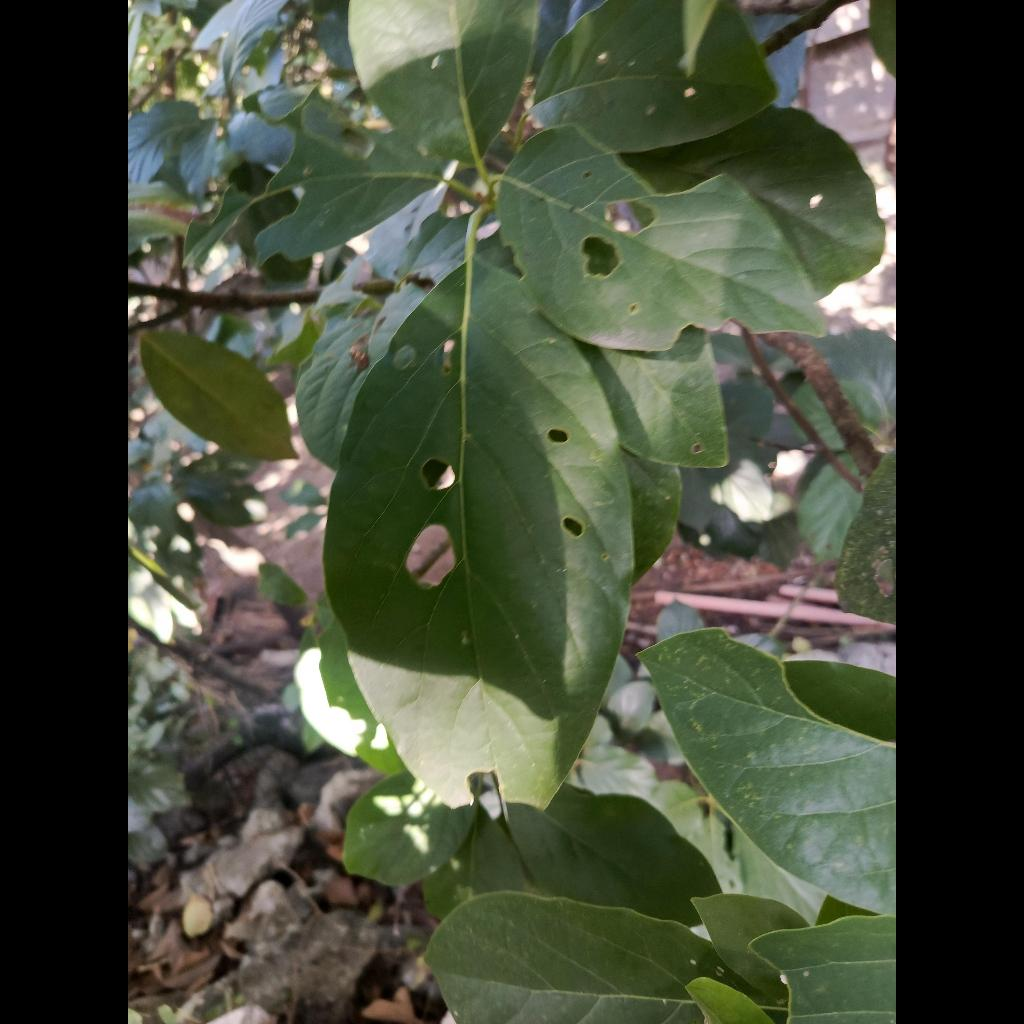plaga: (324, 252, 633, 808), (497, 127, 822, 350)
